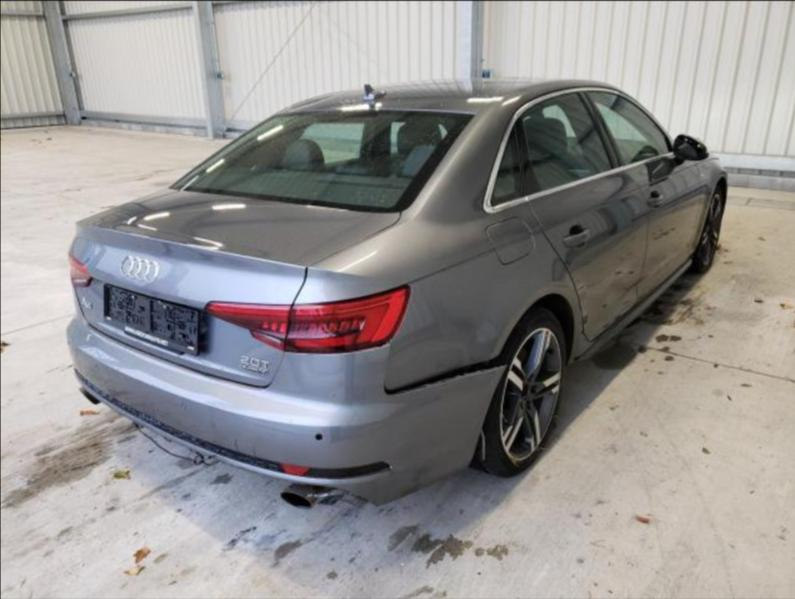Broken part: (65, 288, 504, 505)
Missing part: (106, 284, 200, 353), (314, 431, 326, 442)
Scratch: (226, 436, 240, 452), (246, 449, 257, 457)
